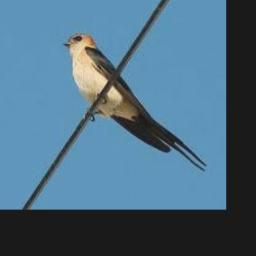Swallow: (62, 33, 207, 172)
